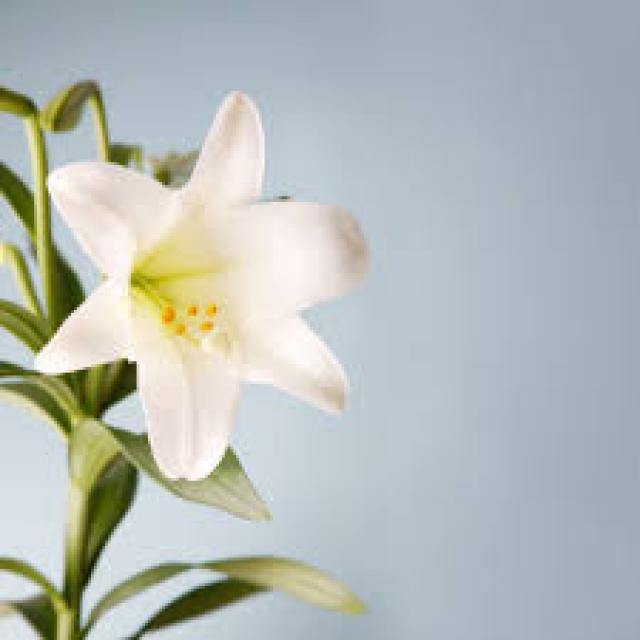lily: (20, 92, 387, 493)
